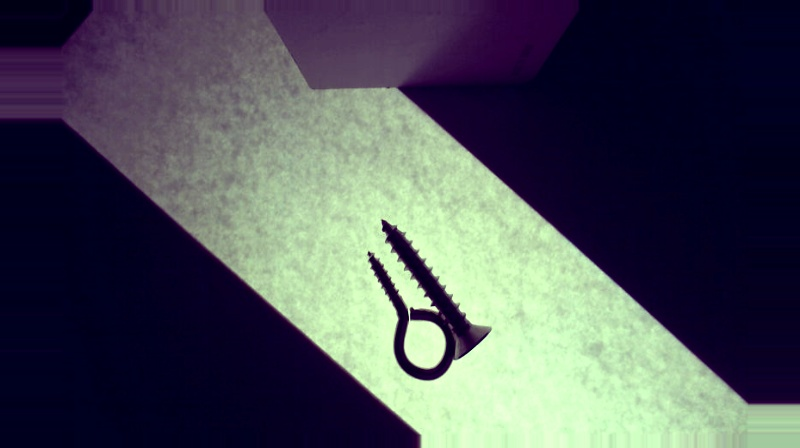O001: (365, 252, 459, 382)
S001: (379, 218, 492, 361)
